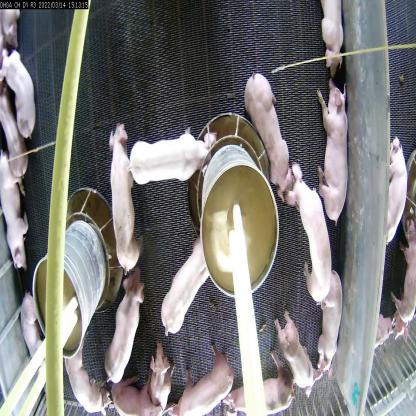Pig: (307, 64, 348, 240), (245, 64, 292, 209), (288, 166, 335, 305), (107, 125, 148, 277), (106, 342, 186, 415), (127, 120, 211, 188), (171, 339, 246, 415), (168, 233, 220, 336), (112, 254, 148, 381), (0, 50, 45, 147), (60, 327, 108, 416), (276, 312, 321, 402), (1, 146, 32, 270), (226, 362, 297, 415), (314, 268, 342, 399), (316, 1, 353, 88), (20, 286, 42, 366)
